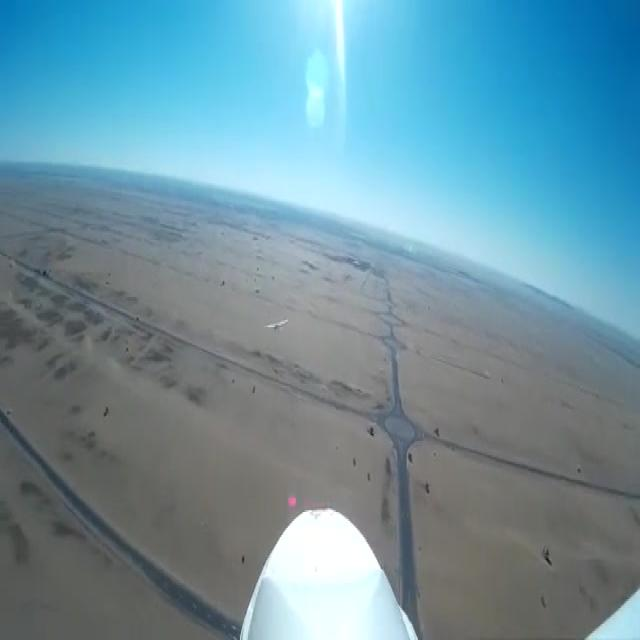iha: (264, 322, 289, 328)
